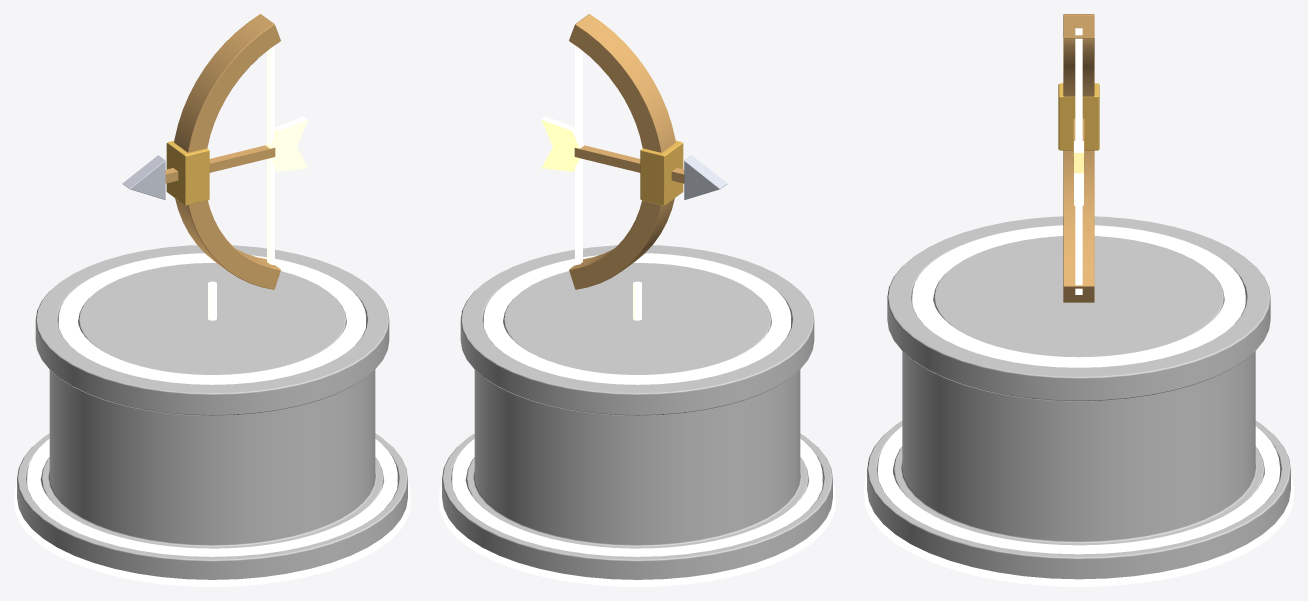
Rendered from Lobby_PED_Arrow.fbx.
3 views of the same model, side by side, from view 1: azimuth 30°, elevation 25°; view 2: azimuth 150°, elevation 25°; view 3: azimuth 270°, elevation 25° (orthographic). The views are drawn at different scales.
Visible parts, largest first — view 1: PedestalMarble__Arrow, Glyph_BowWood__Arrow, PedNeon_Arrow__Arrow_TopNeon, PedNeon_Arrow__Arrow_BaseNeon, PedNeon_Arrow__Arrow_BaseNeonEdge, Glyph_BowGold__Arrow, Glyph_BowString__BowString, Glyph_ArrowHead__Arrow, Glyph_ArrowFletch__ArrowFletch_1, Glyph_ArrowFletch__ArrowFletch_-1; view 2: PedestalMarble__Arrow, Glyph_BowWood__Arrow, PedNeon_Arrow__Arrow_TopNeon, PedNeon_Arrow__Arrow_BaseNeon, PedNeon_Arrow__Arrow_BaseNeonEdge, Glyph_BowGold__Arrow, Glyph_BowString__BowString, Glyph_ArrowHead__Arrow, Glyph_ArrowFletch__ArrowFletch_1, Glyph_ArrowFletch__ArrowFletch_-1; view 3: PedestalMarble__Arrow, PedNeon_Arrow__Arrow_TopNeon, PedNeon_Arrow__Arrow_BaseNeon, Glyph_BowWood__Arrow, PedNeon_Arrow__Arrow_BaseNeonEdge, Glyph_BowGold__Arrow, Glyph_BowString__BowString.
Boxes of the visible parts, bbox=[...] form: PedestalMarble__Arrow: bbox=[17, 245, 407, 579]; Glyph_BowWood__Arrow: bbox=[165, 14, 280, 289]; PedNeon_Arrow__Arrow_TopNeon: bbox=[59, 253, 365, 384]; PedNeon_Arrow__Arrow_BaseNeon: bbox=[27, 439, 397, 556]; PedNeon_Arrow__Arrow_BaseNeonEdge: bbox=[14, 484, 410, 586]; Glyph_BowGold__Arrow: bbox=[166, 140, 209, 205]; Glyph_BowString__BowString: bbox=[267, 45, 274, 265]; Glyph_ArrowHead__Arrow: bbox=[122, 155, 165, 199]; Glyph_ArrowFletch__ArrowFletch_1: bbox=[265, 116, 308, 151]; Glyph_ArrowFletch__ArrowFletch_-1: bbox=[270, 147, 308, 171]; PedestalMarble__Arrow: bbox=[442, 245, 832, 579]; Glyph_BowWood__Arrow: bbox=[569, 14, 684, 289]; PedNeon_Arrow__Arrow_TopNeon: bbox=[484, 253, 790, 384]; PedNeon_Arrow__Arrow_BaseNeon: bbox=[452, 439, 822, 556]; PedNeon_Arrow__Arrow_BaseNeonEdge: bbox=[439, 484, 835, 586]; Glyph_BowGold__Arrow: bbox=[640, 140, 683, 205]; Glyph_BowString__BowString: bbox=[575, 45, 582, 265]; Glyph_ArrowHead__Arrow: bbox=[684, 155, 727, 199]; Glyph_ArrowFletch__ArrowFletch_1: bbox=[541, 116, 584, 151]; Glyph_ArrowFletch__ArrowFletch_-1: bbox=[541, 147, 579, 171]; PedestalMarble__Arrow: bbox=[867, 216, 1290, 579]; PedNeon_Arrow__Arrow_TopNeon: bbox=[912, 225, 1245, 367]; PedNeon_Arrow__Arrow_BaseNeon: bbox=[878, 426, 1279, 554]; Glyph_BowWood__Arrow: bbox=[1063, 14, 1094, 302]; PedNeon_Arrow__Arrow_BaseNeonEdge: bbox=[864, 476, 1293, 586]; Glyph_BowGold__Arrow: bbox=[1058, 83, 1099, 150]; Glyph_BowString__BowString: bbox=[1075, 28, 1082, 294].
Size of the model in its own units: 4.26 by 5.6 by 4.26.
